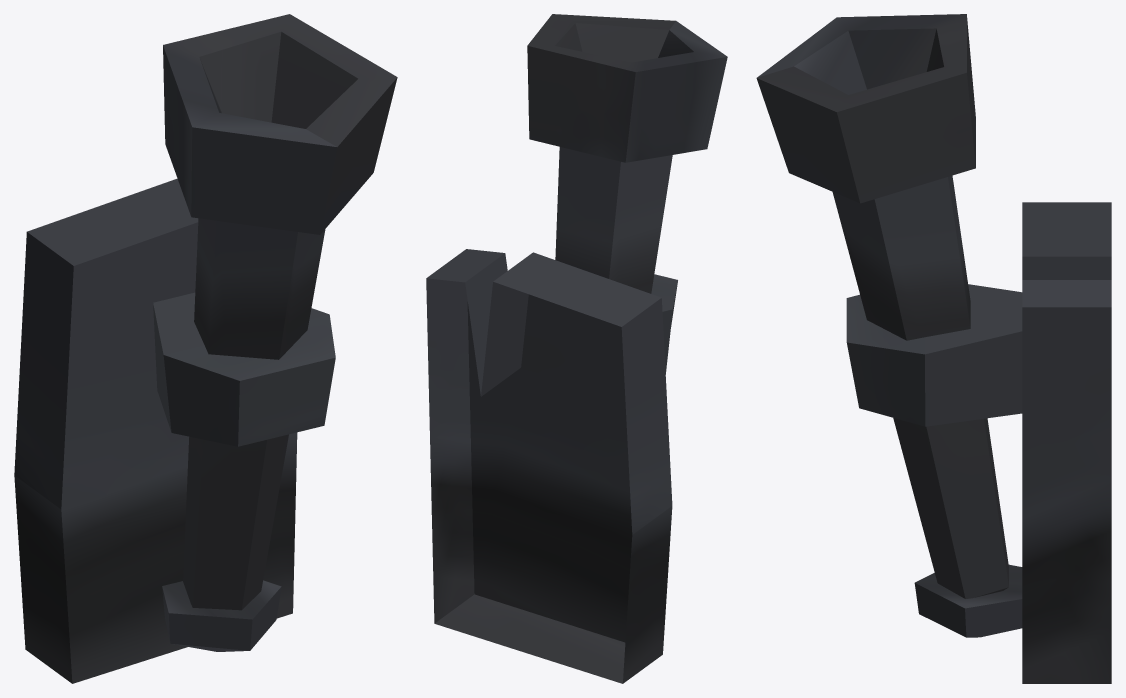
The model's file is Torch_Holder.fbx.
3 renders of one model, left to right at view 1: azimuth 30°, elevation 25°; view 2: azimuth 150°, elevation 25°; view 3: azimuth 270°, elevation 25°, orthographic. The views are drawn at different scales.
Parts seen in each view (by area): view 1: Torch_Holder; view 2: Torch_Holder; view 3: Torch_Holder.
Boxes of the visible parts, x1,y1,x2,y2 form: Torch_Holder: [14, 14, 397, 683]; Torch_Holder: [426, 14, 727, 683]; Torch_Holder: [756, 14, 1111, 683].
Bounding box in the file's own units: 6.24 × 15.94 × 8.38.
